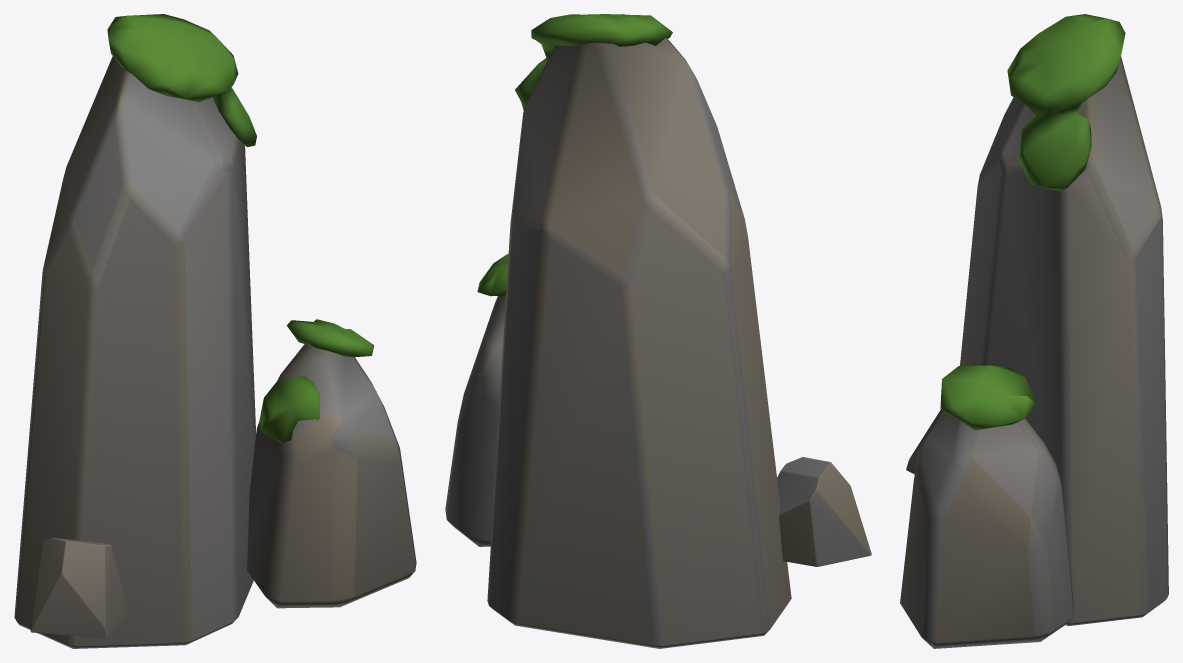
File: rock-b.glb
3 views of the same model, side by side, from view 1: azimuth 30°, elevation 25°; view 2: azimuth 150°, elevation 25°; view 3: azimuth 270°, elevation 25° (orthographic). The views are drawn at different scales.
Visible parts, largest first — view 1: Rock B Rock, Rock B Moss; view 2: Rock B Rock, Rock B Moss; view 3: Rock B Rock, Rock B Moss.
Boxes of the visible parts, <box> form: Rock B Rock: <box>14,56,416,648</box>; Rock B Moss: <box>107,14,373,442</box>; Rock B Rock: <box>445,38,871,648</box>; Rock B Moss: <box>477,14,672,296</box>; Rock B Rock: <box>900,56,1168,648</box>; Rock B Moss: <box>940,14,1125,430</box>.
Bounding box in the file's own units: 2.18 × 3.12 × 1.37.
